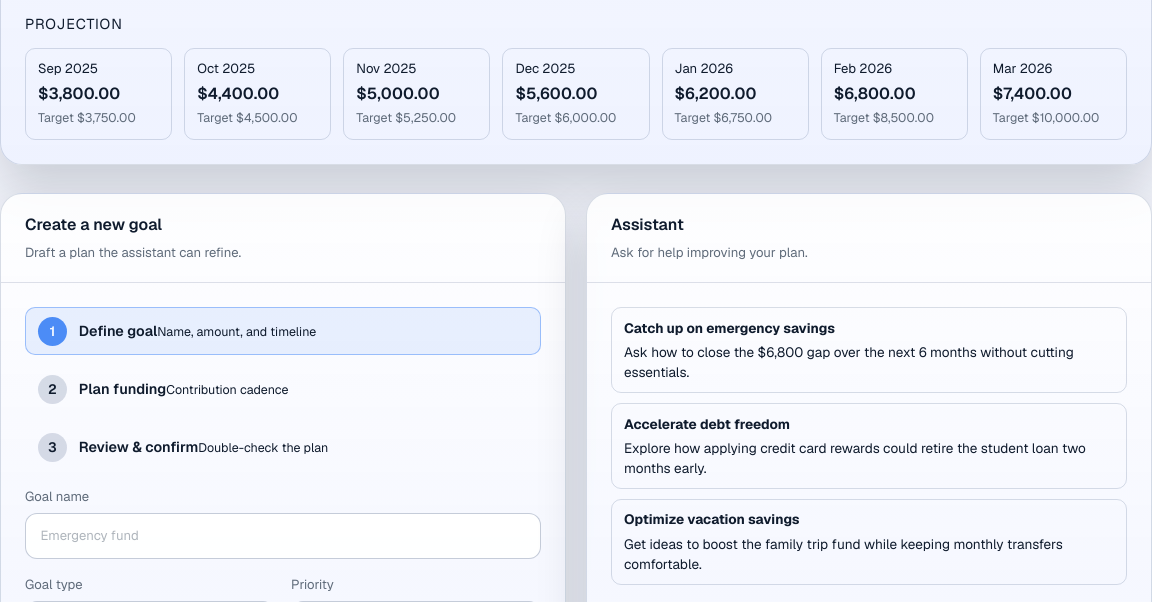
Test: GoalsSection › requests an assistant recommendation
(page scrolled)
Expected: the text "Assistant" is shown, top-left (611, 214), bottom-right (684, 235)
Click the button "Catch up on emergency savings" at (869, 350), box top-left (611, 307), bottom-right (1127, 393)
(page scrolled)
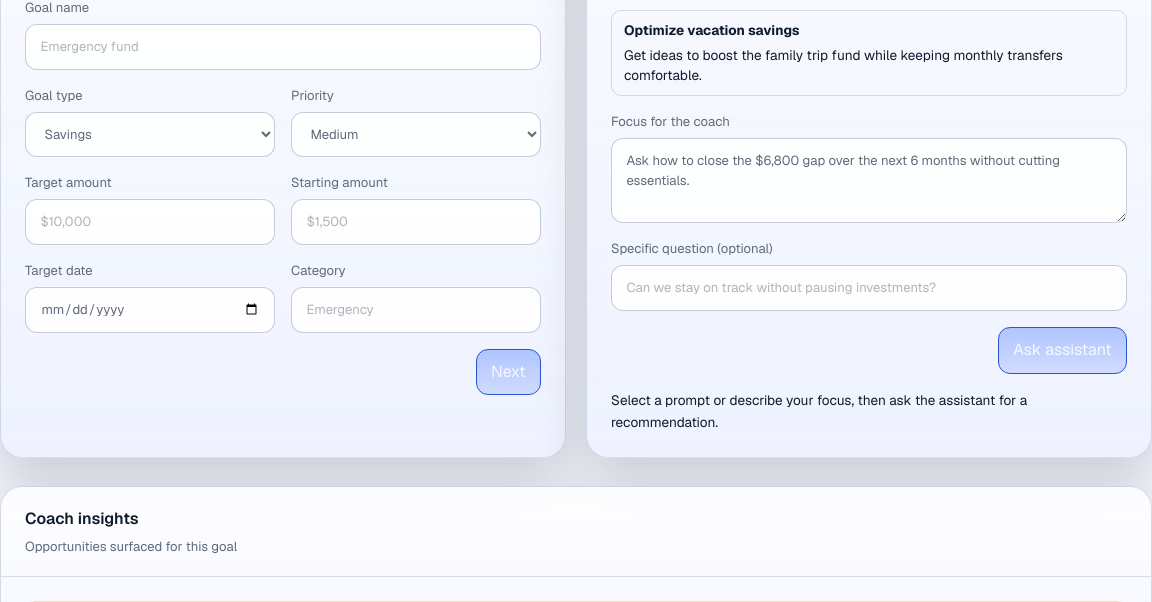
Click the button "Ask assistant" at (1062, 350), box top-left (998, 327), bottom-right (1127, 374)
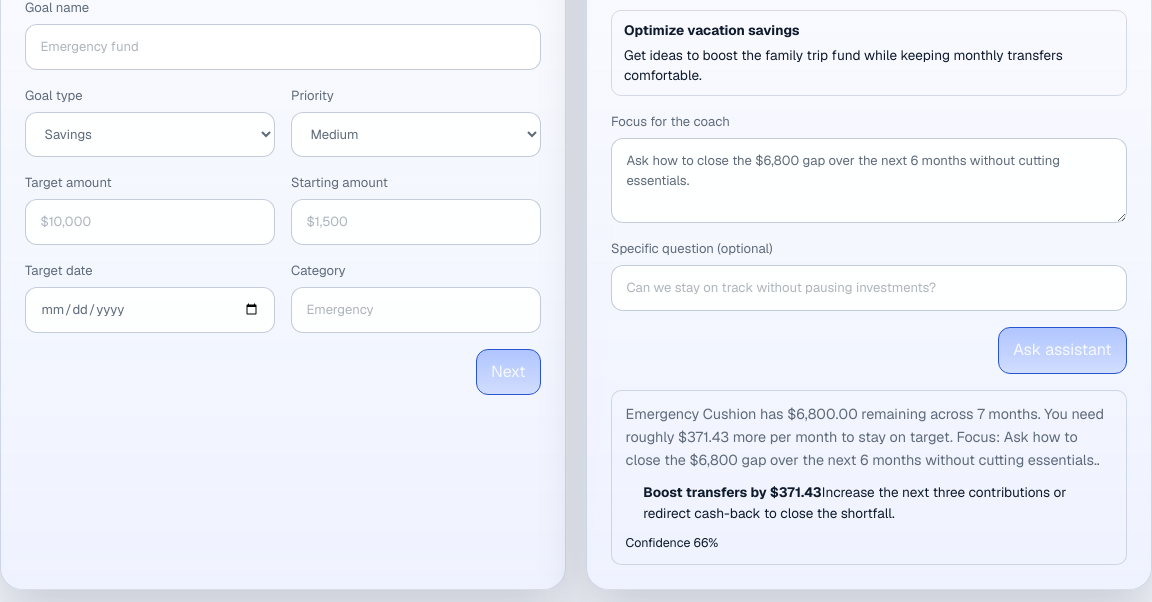
Result: the text "Emergency Cushion has $6,800.00 remaining" is shown at top-left (626, 405), bottom-right (1104, 469)
Result: the text "Boost transfers by $371.43" is shown at top-left (643, 483), bottom-right (822, 501)
Result: the text "Confidence 66%" is shown at top-left (626, 534), bottom-right (718, 550)
